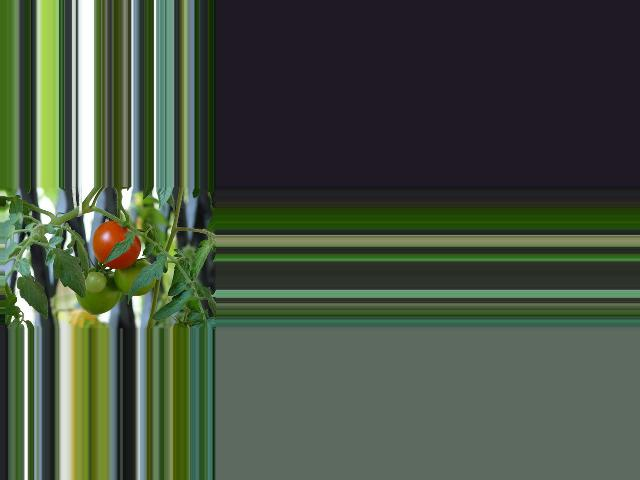tomato: (91, 220, 140, 268)
